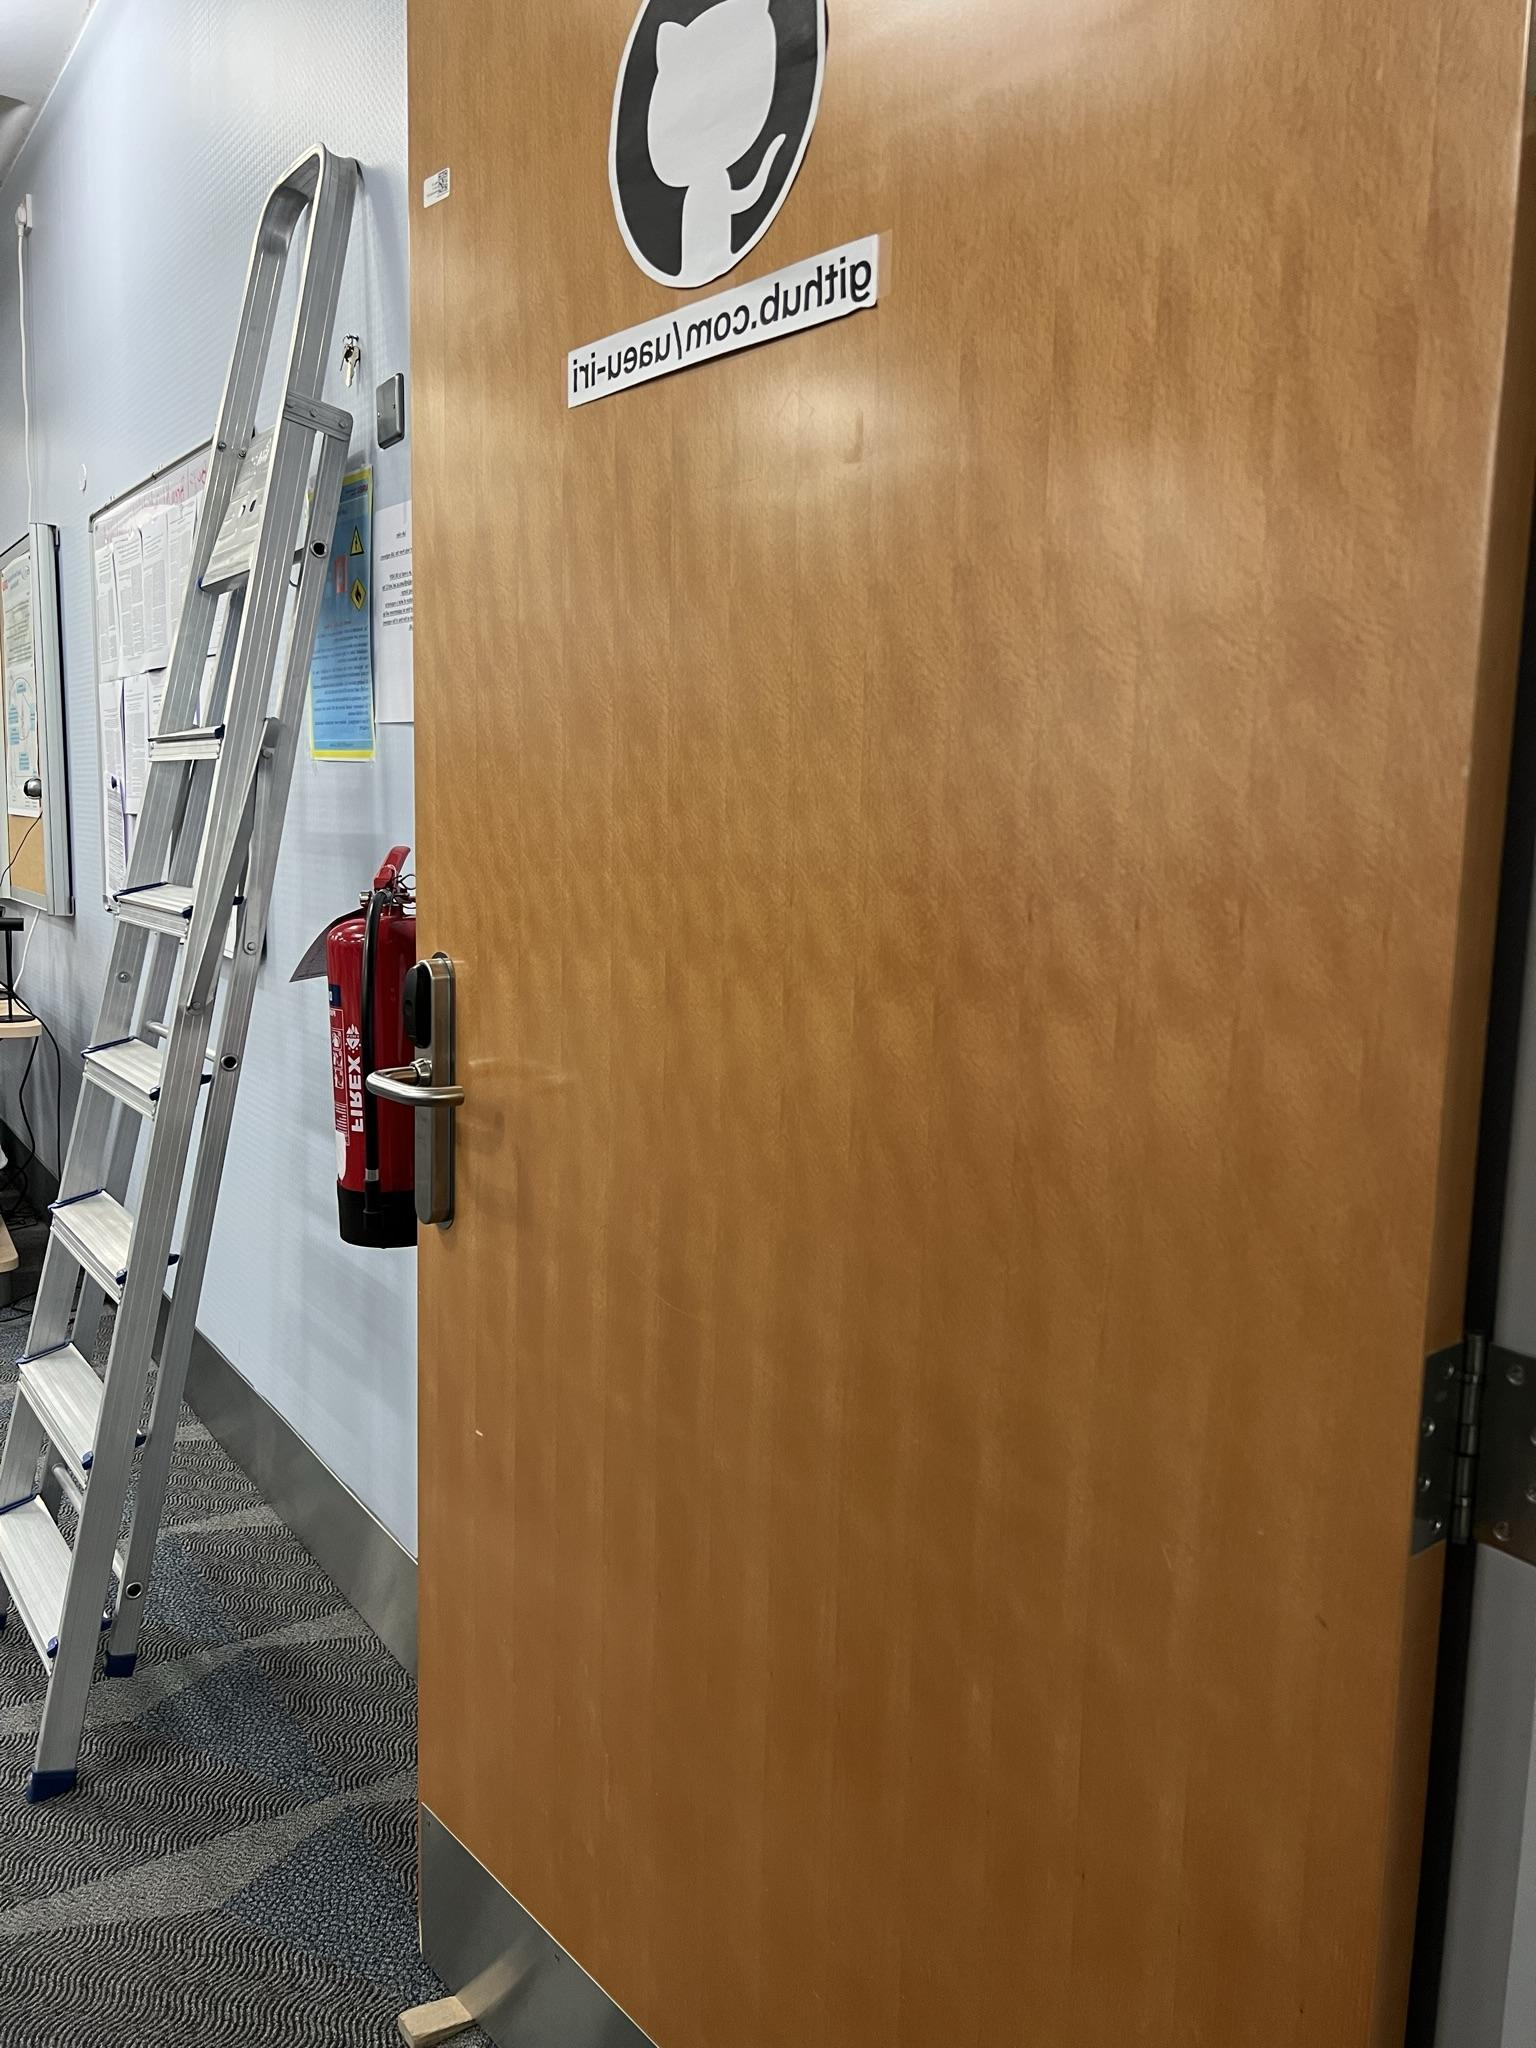door: (392, 0, 1536, 2048)
handle: (366, 948, 466, 1232)
